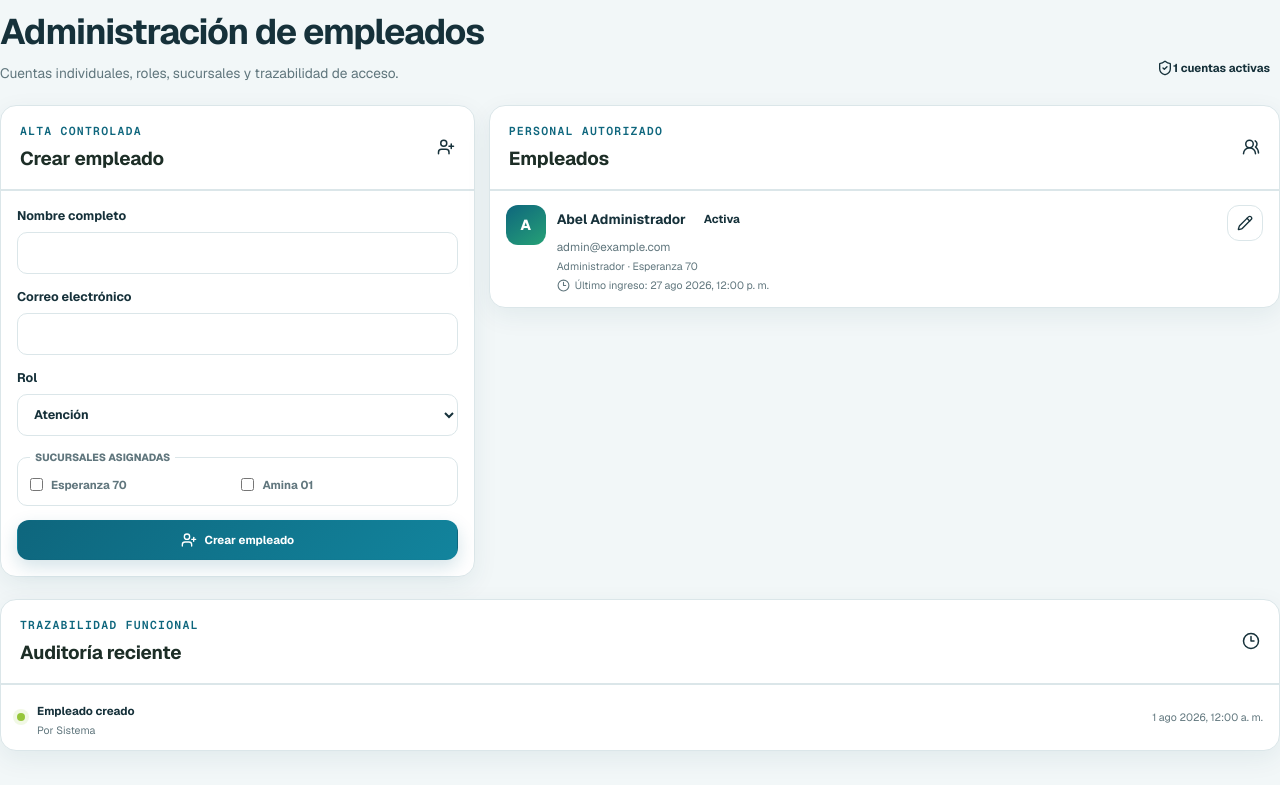
AdministrationWorkspace › opens employee editing and prevents the current account from being deactivated
Click the button named "Editar Abel Administrador": click(1245, 222) [1227,204,1263,240]
(page scrolled)
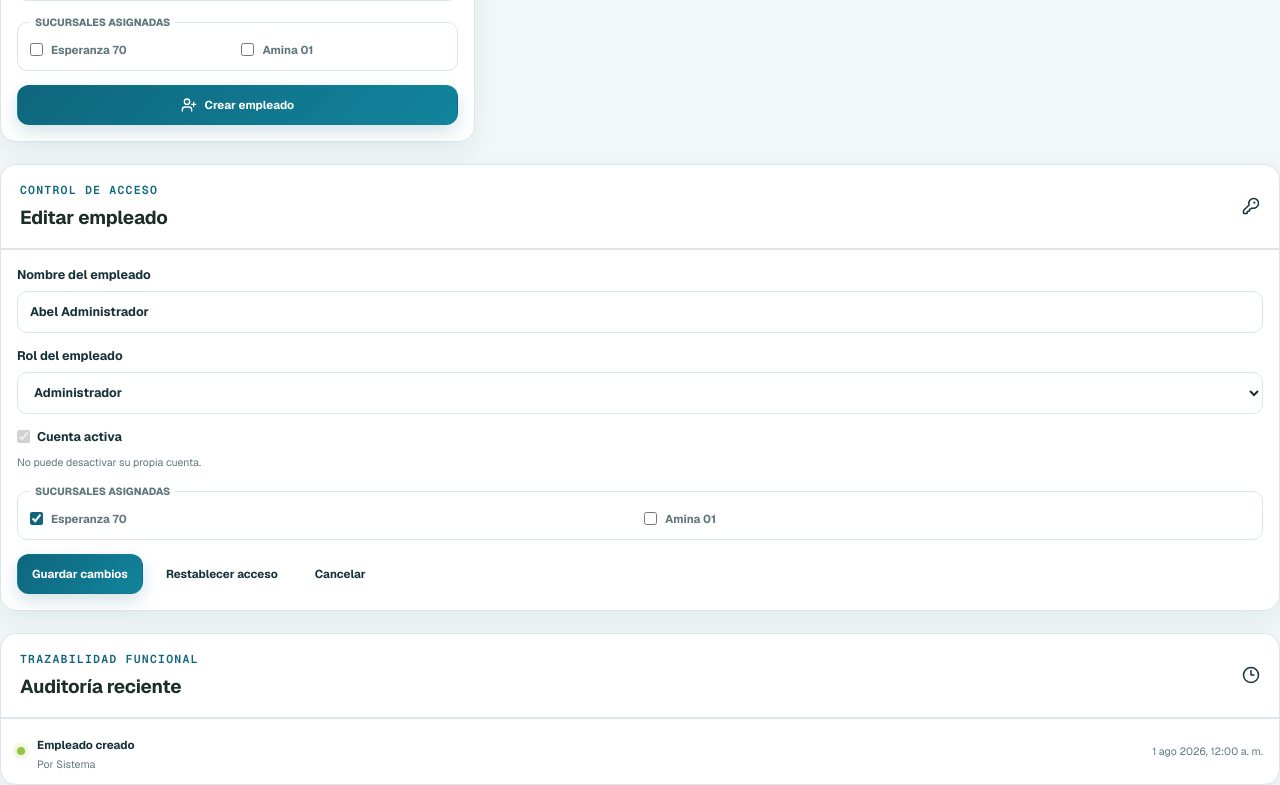
expect the heading "Editar empleado" is shown: met, box [20,204,168,230]
expect the checkbox labelled "Cuenta activa" is disabled: met, box [17,430,30,443]
expect the text "No puede desactivar su propia cuenta." is shown: met, box [17,454,201,468]
